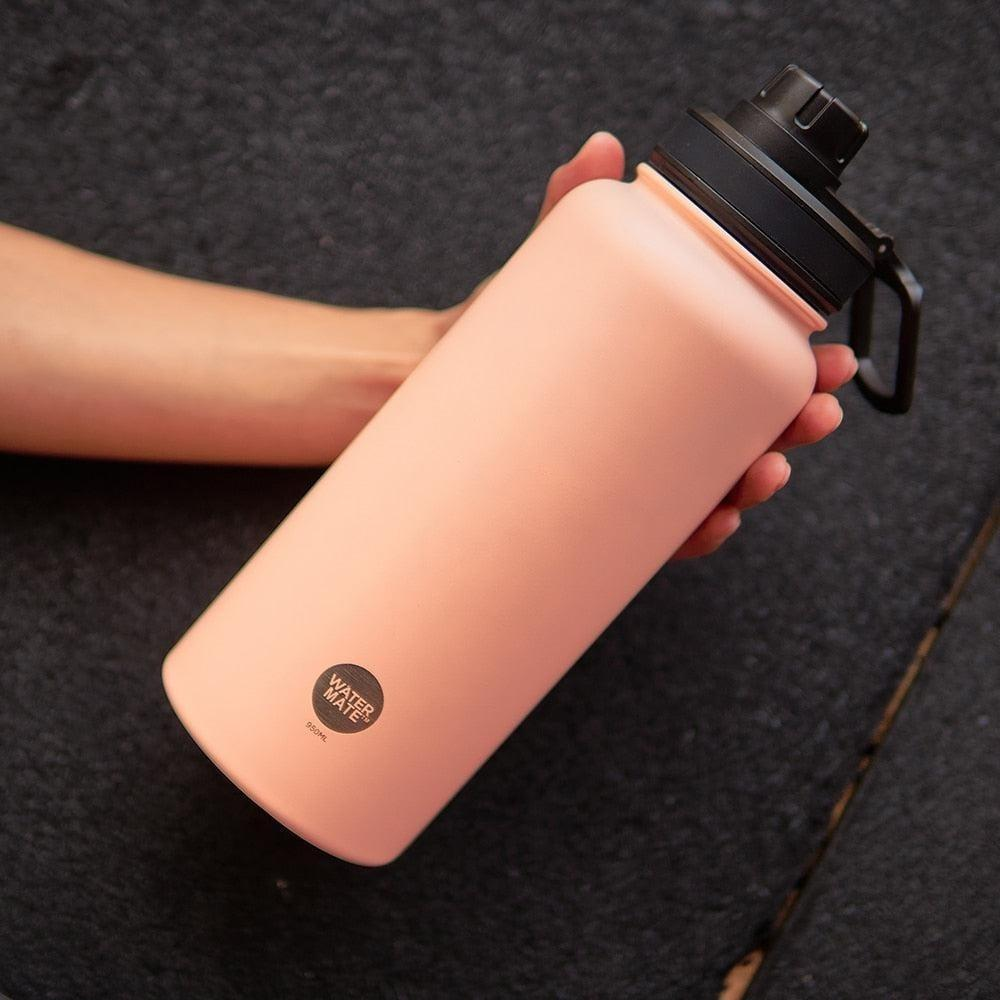gym bottle: (161, 66, 915, 869)
